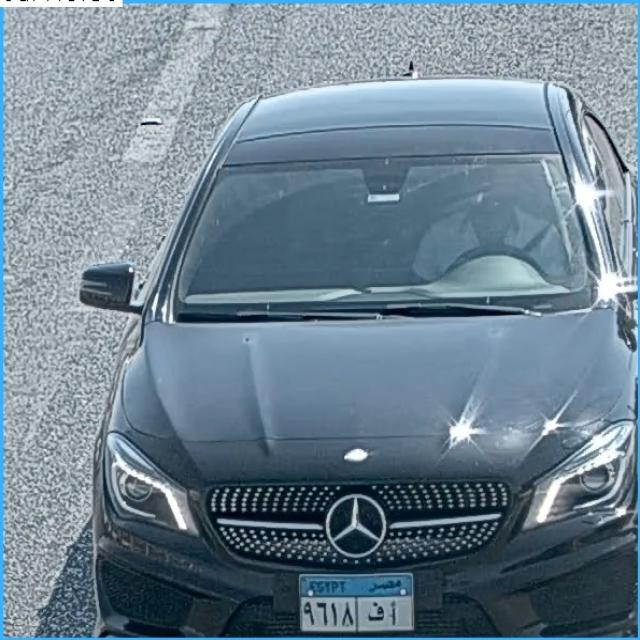windshield: (151, 160, 598, 311)
